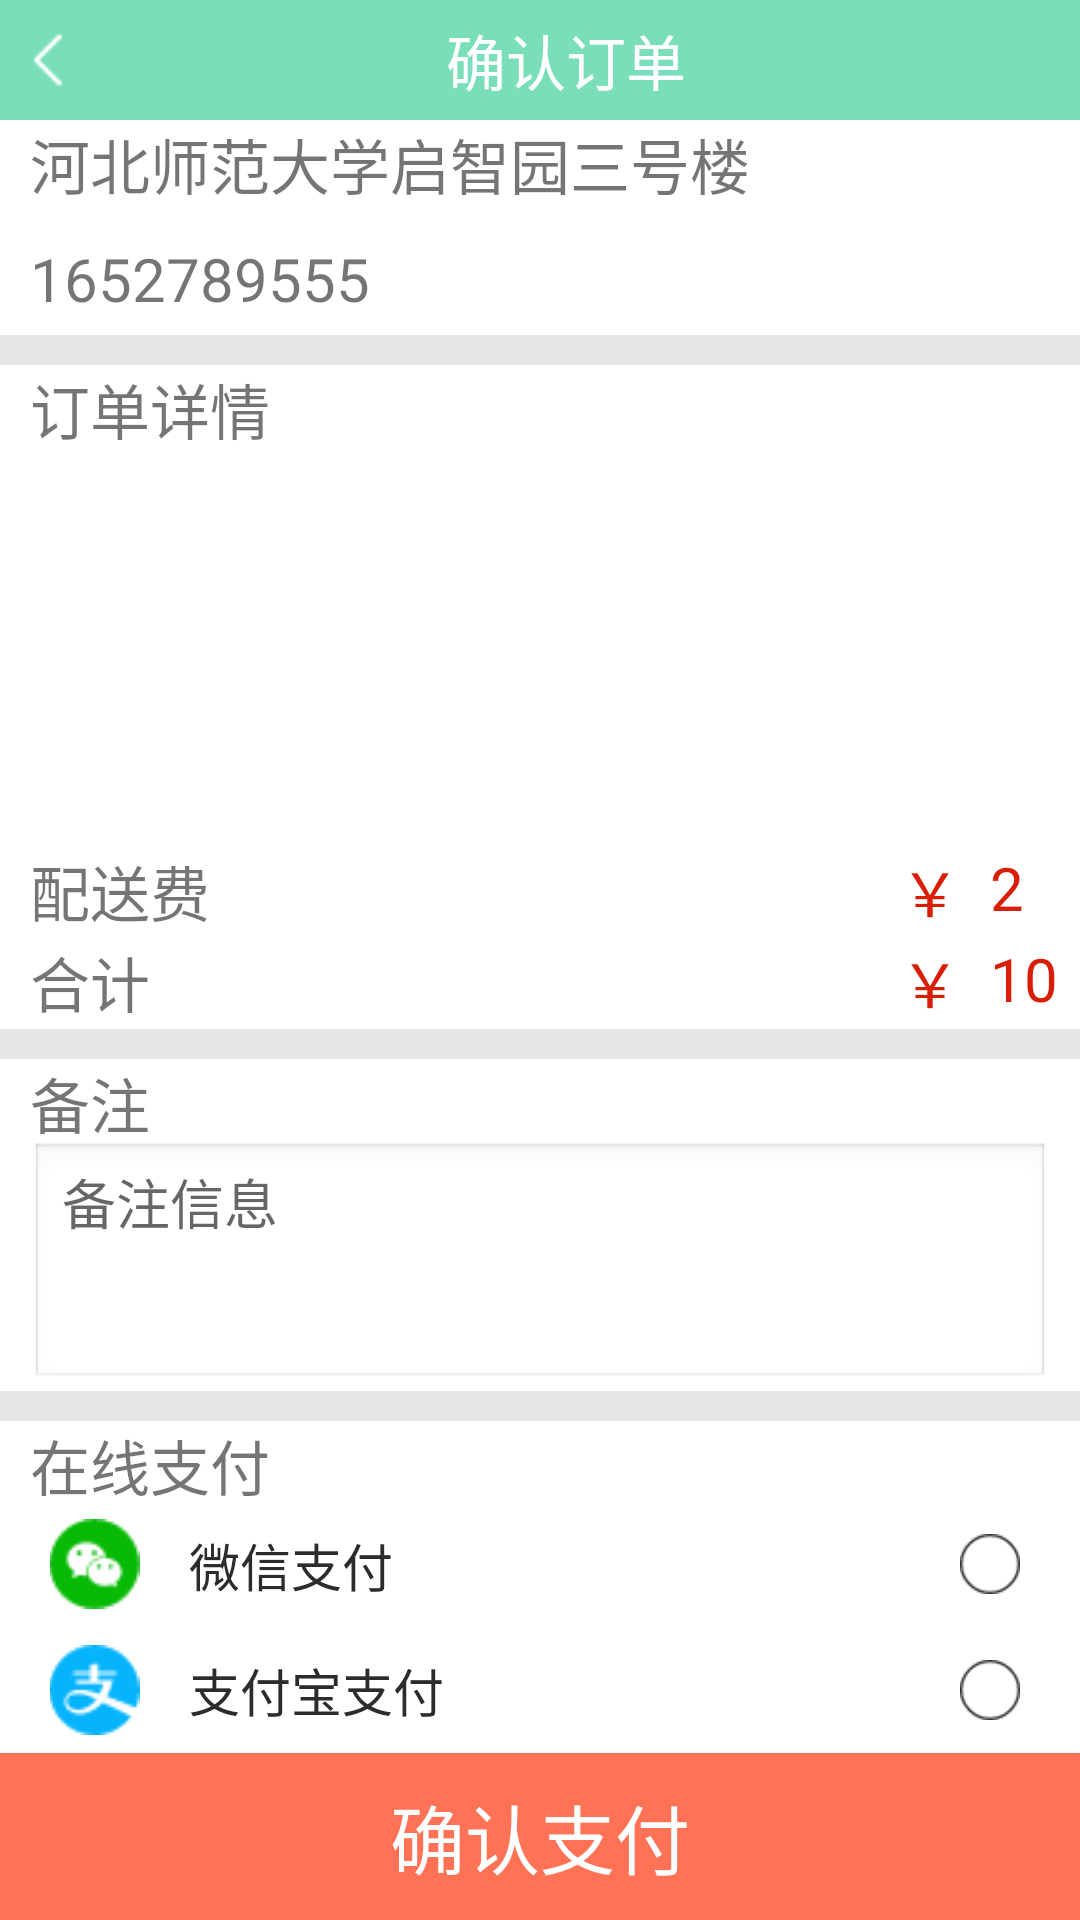

Locate icon controls on the screen. Image size 1080 × 1920, boxes as [x1, y1, x2, y2].
left: [34, 34, 62, 86]
